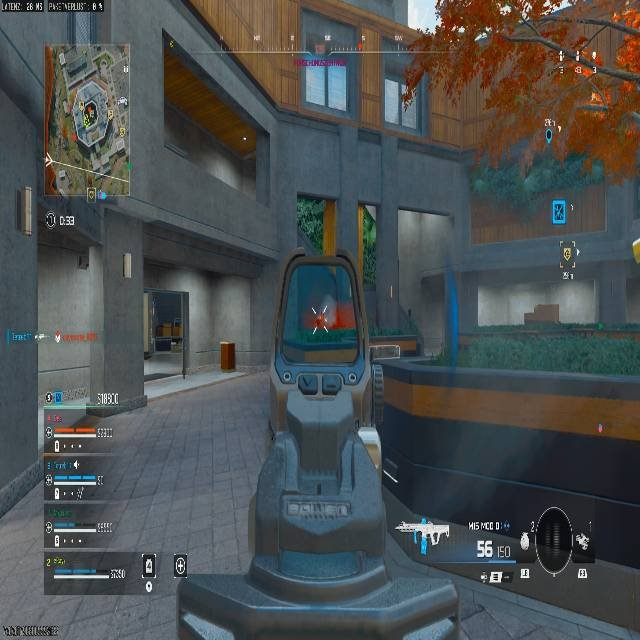player: (315, 312, 326, 331)
